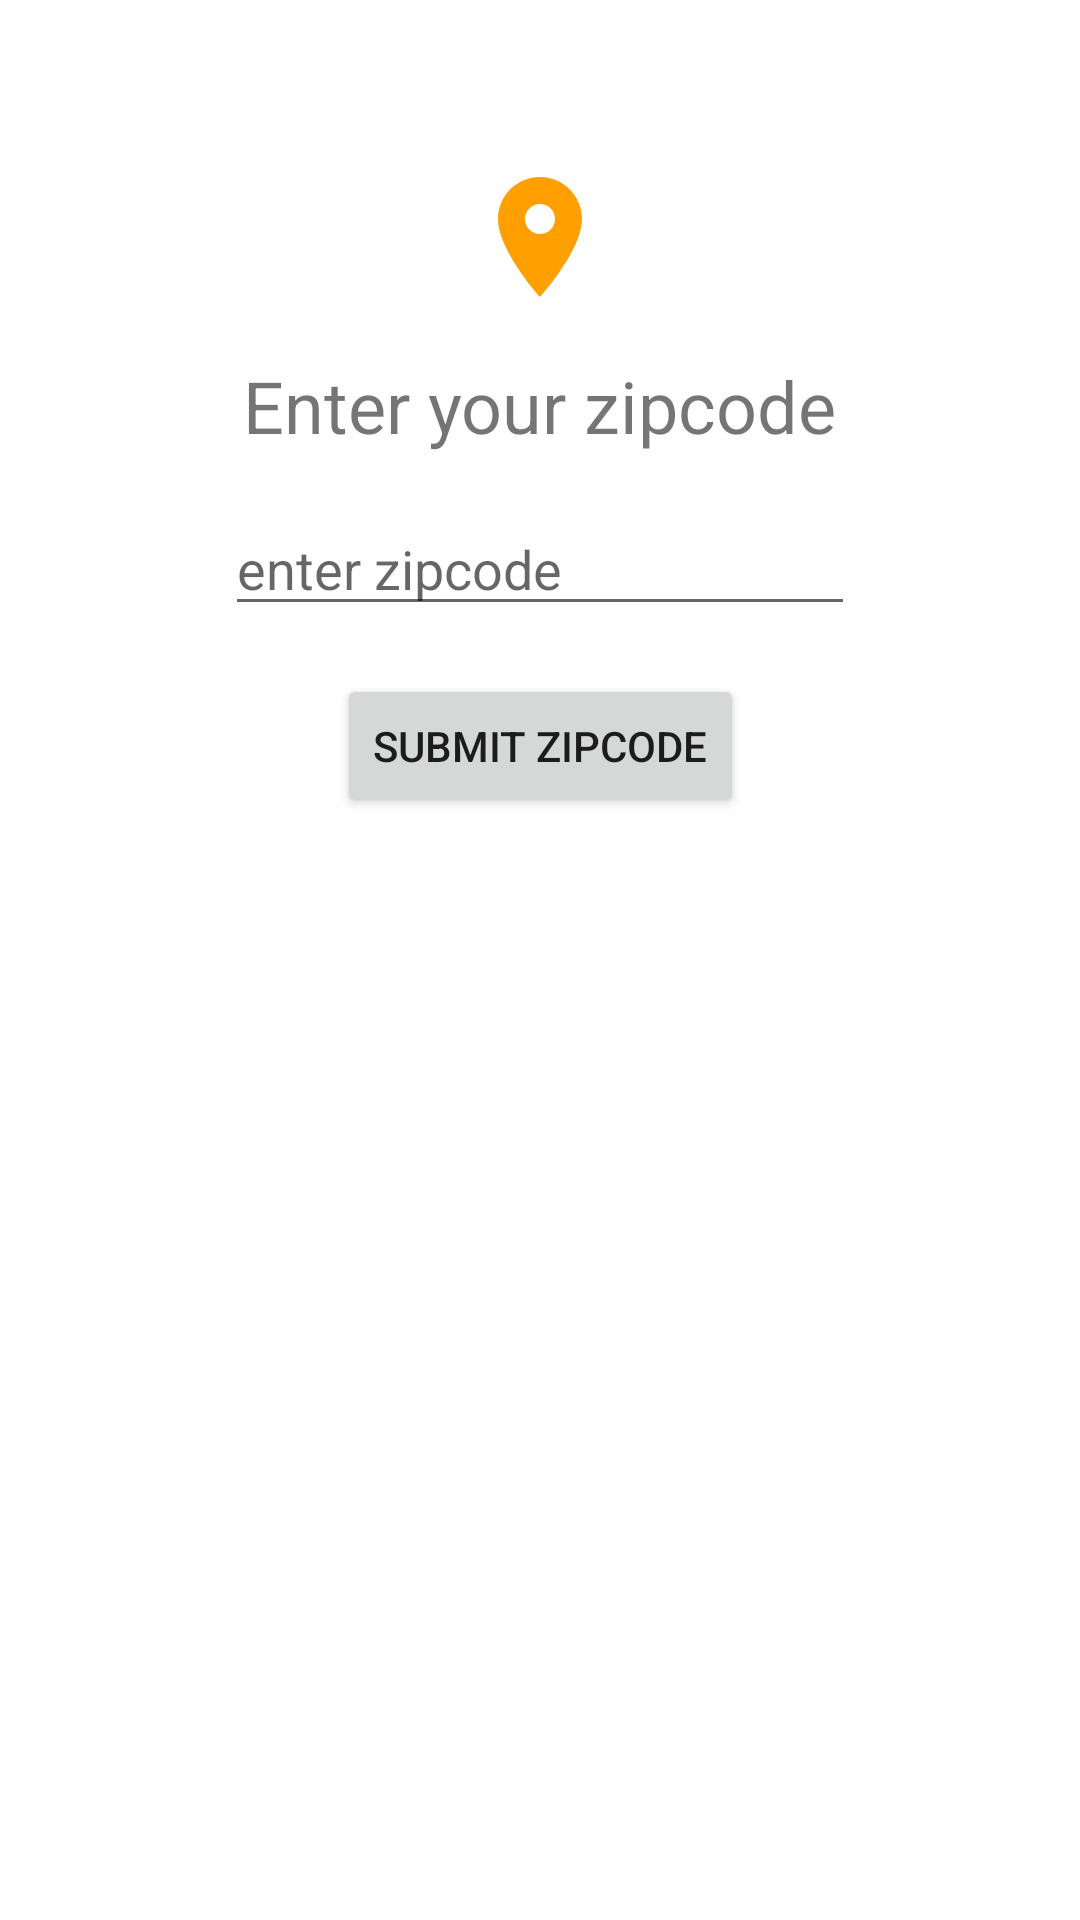

Where icons sit on this 1080 x 1920 app screen, as Rect(x1, y1, x2, y2):
Location Image: Rect(498, 177, 582, 297)
